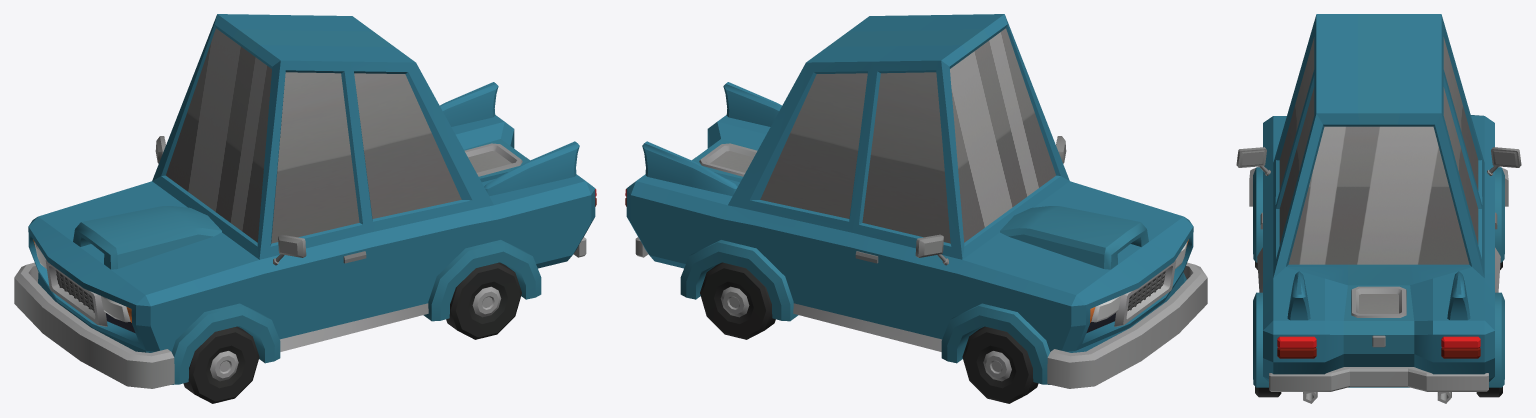
Rendered from Car_11_L.gltf.
The picture shows the model from 3 angles, left to right: view 1: azimuth 30°, elevation 25°; view 2: azimuth 150°, elevation 25°; view 3: azimuth 270°, elevation 25°; orthographic projection.
Visible parts, largest first — view 1: Car_11_L, RL, FL; view 2: Car_11_L, RR, FR; view 3: Car_11_L.
Part boxes in pixels (x1,y1,x2,y2): Car_11_L: [14, 14, 596, 388]; RL: [446, 262, 521, 339]; FL: [183, 326, 259, 403]; Car_11_L: [625, 14, 1207, 388]; RR: [700, 262, 775, 339]; FR: [962, 326, 1038, 403]; Car_11_L: [1236, 14, 1521, 403].
Bounding box in the file's own units: 3.58 × 2.1 × 1.85.
3 materials, 3 textured.
